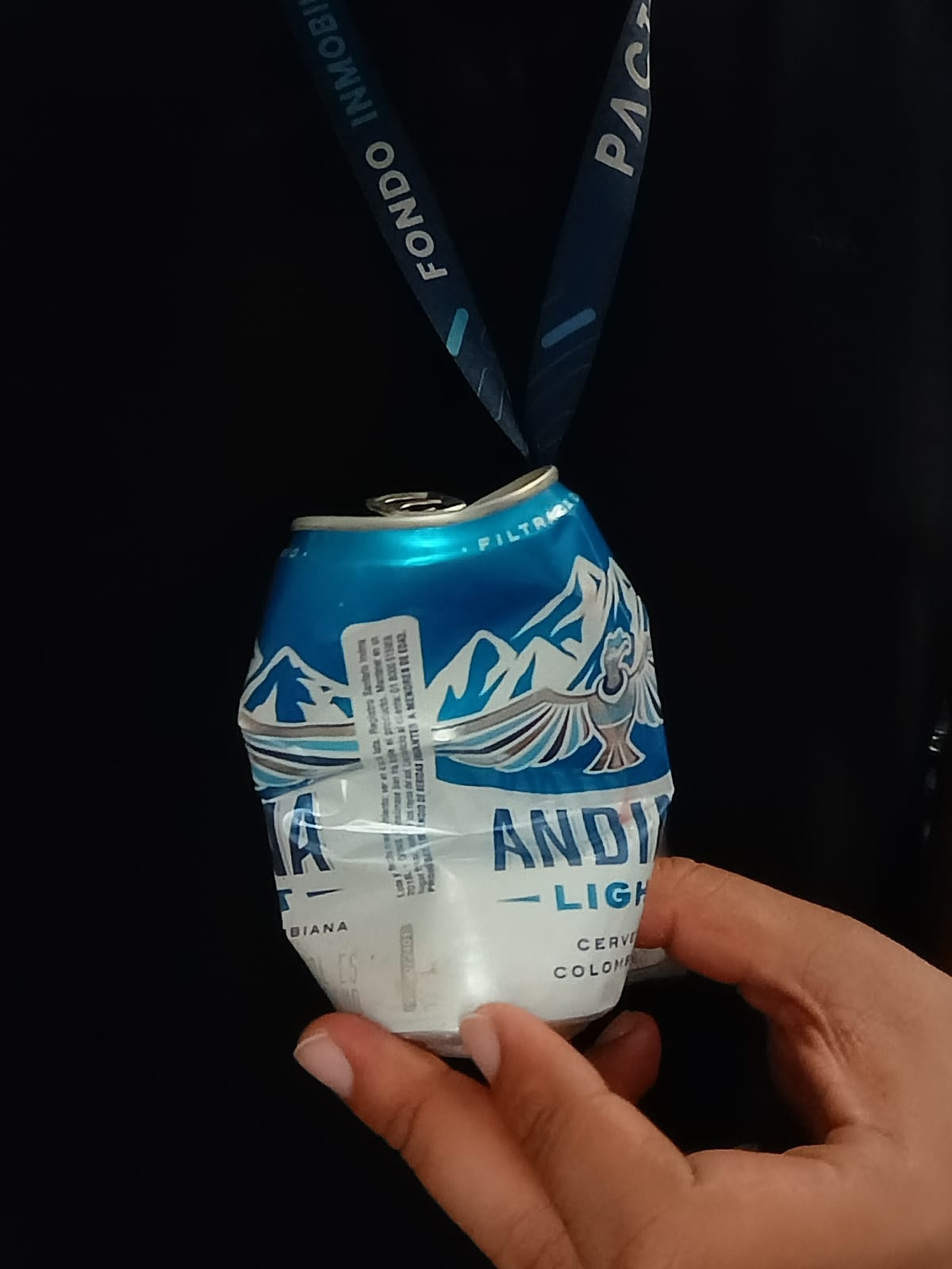Metal: (235, 462, 678, 1060)
